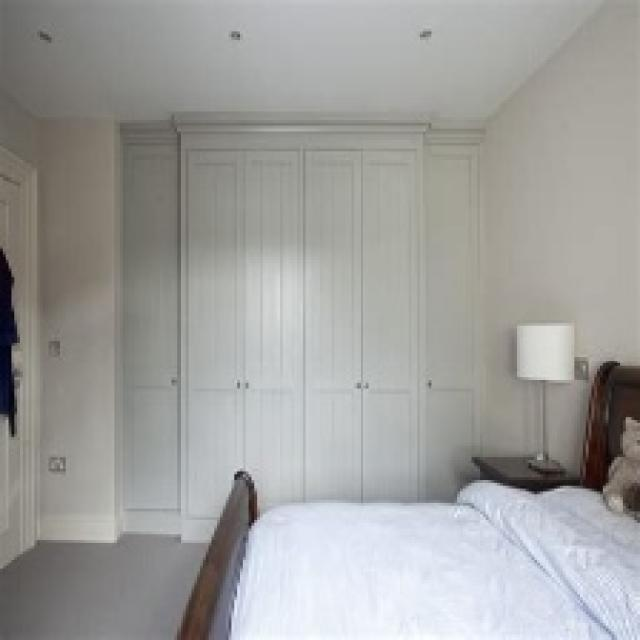bed: (206, 428, 630, 640)
lamp: (511, 307, 583, 481)
